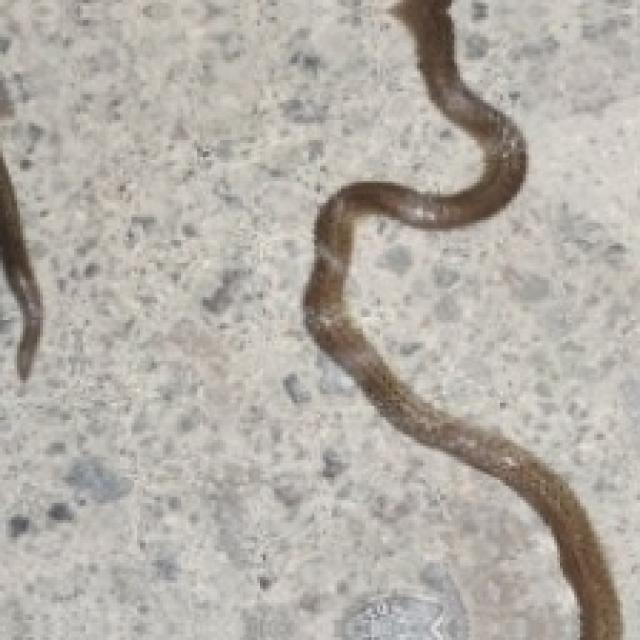gervais worm snake: (303, 0, 620, 637)
